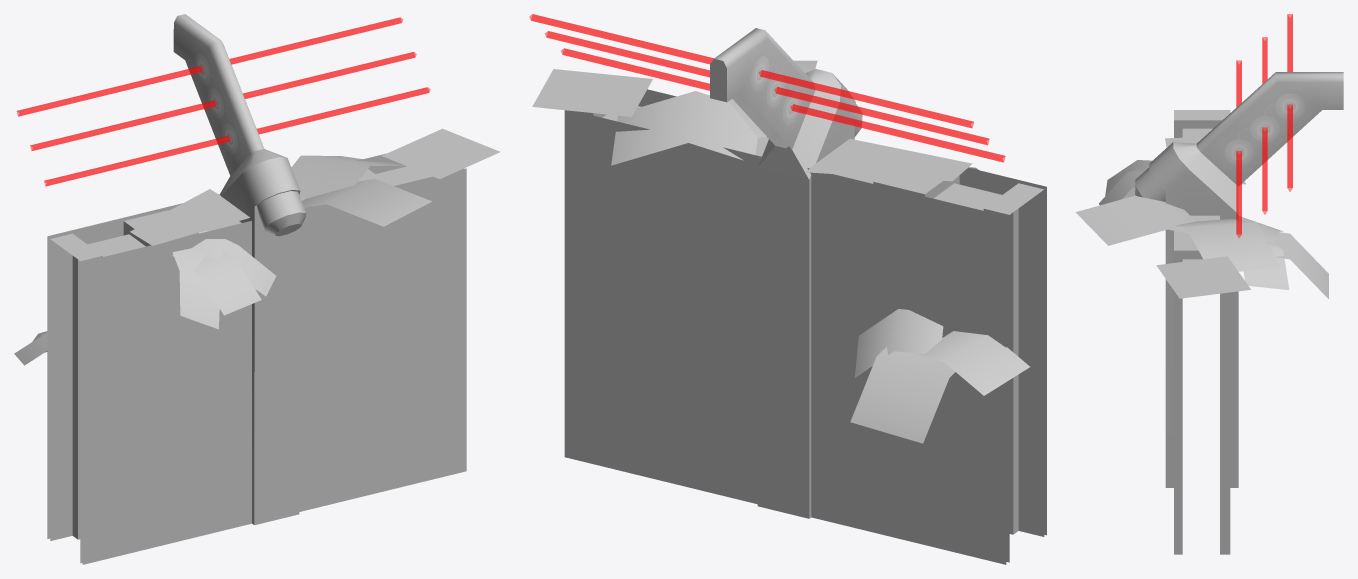
File: Exterior_Fence_Plants_2.fbx
The picture shows the model from 3 angles, left to right: view 1: azimuth 30°, elevation 25°; view 2: azimuth 150°, elevation 25°; view 3: azimuth 270°, elevation 25°; orthographic projection. The views are drawn at different scales.
Parts seen in each view (by area): view 1: Exterior_Fence_Plants_2; view 2: Exterior_Fence_Plants_2; view 3: Exterior_Fence_Plants_2.
Part boxes in pixels (x1=…): Exterior_Fence_Plants_2: x1=14, y1=14, x2=500, y2=564; Exterior_Fence_Plants_2: x1=529, y1=14, x2=1046, y2=564; Exterior_Fence_Plants_2: x1=1075, y1=14, x2=1343, y2=554.
Bounding box in the file's own units: 4.64 × 4.33 × 2.6.
